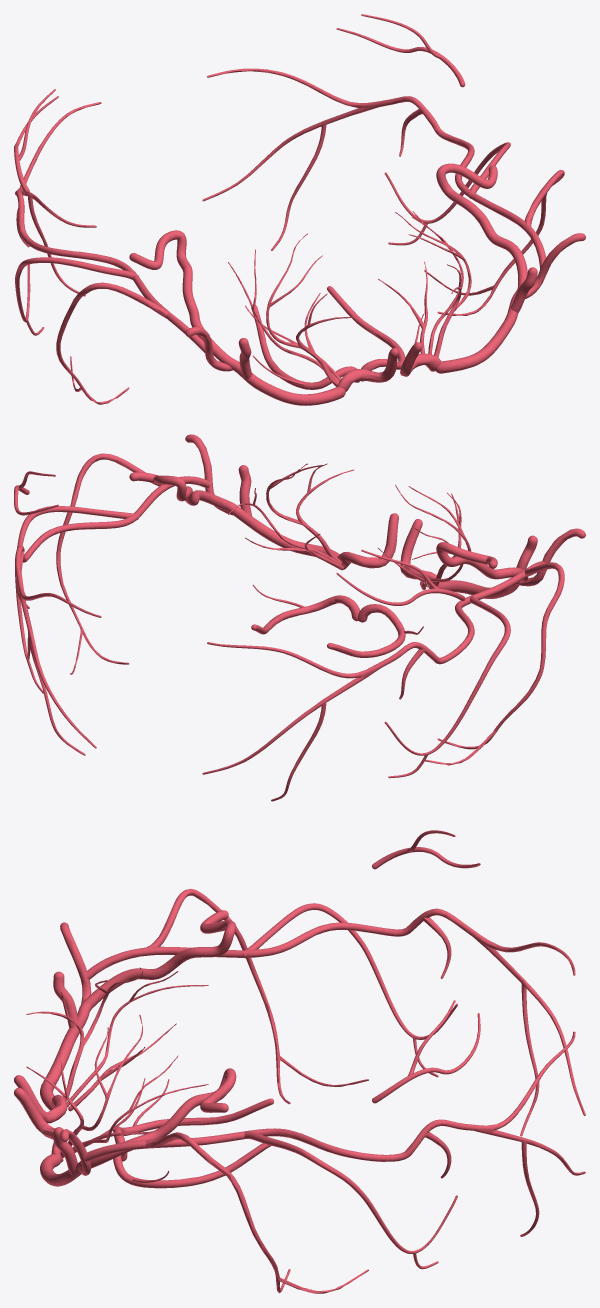
The model's file is cerebral-arteries.glb.
3 views of the same model, one above another, from view 1: azimuth 30°, elevation 25°; view 2: azimuth 150°, elevation 25°; view 3: azimuth 270°, elevation 25° (orthographic). The views are drawn at different scales.
Visible parts, largest first — view 1: grp1; view 2: grp1; view 3: grp1.
Part boxes in pixels (left/top/right/bottom): grp1: left=14, top=14, right=585, bottom=405; grp1: left=14, top=434, right=585, bottom=801; grp1: left=14, top=830, right=585, bottom=1293.
Size of the model in its own units: 0.1419 by 0.0697 by 0.131.
